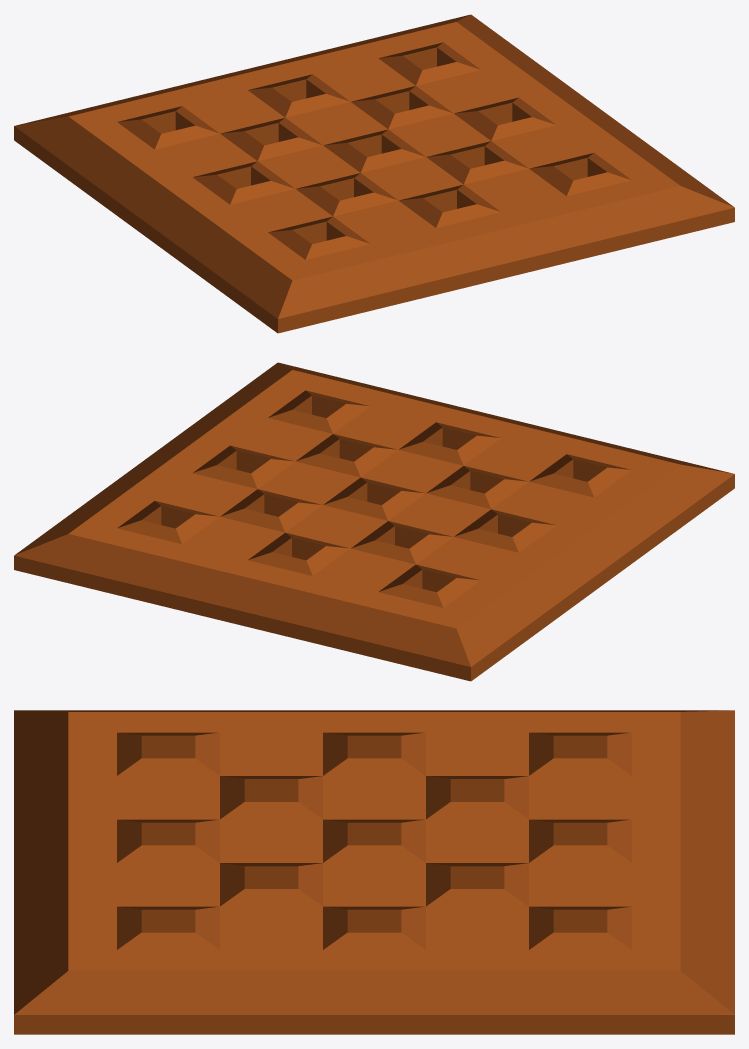
File: Grate.obj
3 views of the same model, one above another, from view 1: azimuth 30°, elevation 25°; view 2: azimuth 150°, elevation 25°; view 3: azimuth 270°, elevation 25° (orthographic). The views are drawn at different scales.
Visible parts, largest first — view 1: Crate; view 2: Crate; view 3: Crate.
Boxes of the visible parts, x1=… form: Crate: x1=14, y1=14, x2=734, y2=333; Crate: x1=14, y1=362, x2=734, y2=681; Crate: x1=14, y1=710, x2=734, y2=1034.
Bounding box in the file's own units: 178 × 15.11 × 178.
